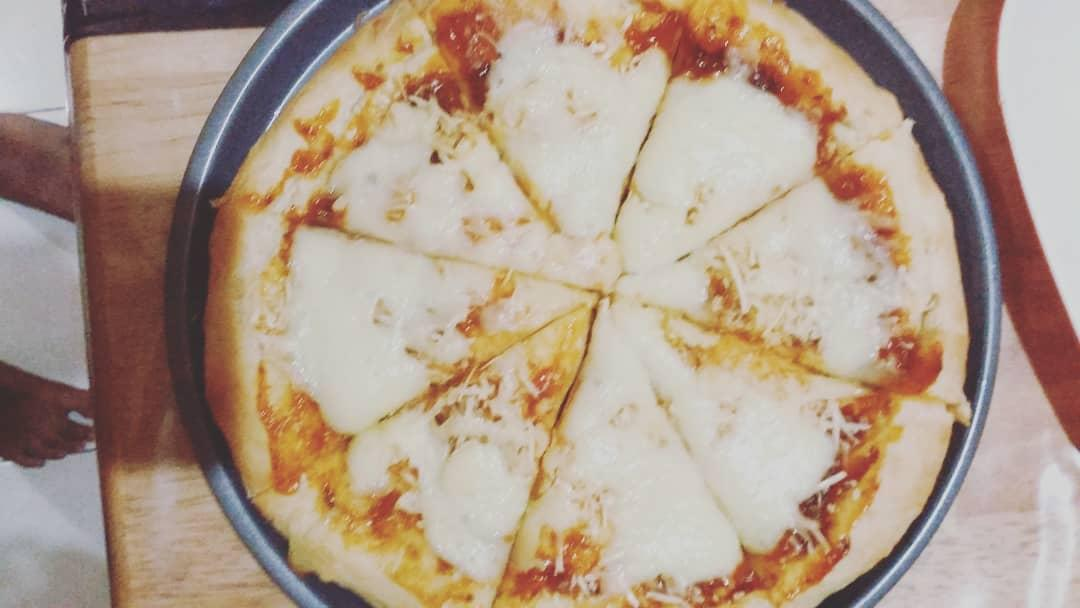Cheese: (526, 385, 725, 575), (667, 194, 866, 354), (295, 233, 450, 407), (600, 299, 833, 405), (505, 48, 642, 211), (616, 122, 796, 245), (666, 417, 816, 548), (396, 417, 523, 547), (367, 141, 522, 237)
Pizza: (209, 0, 977, 608)
